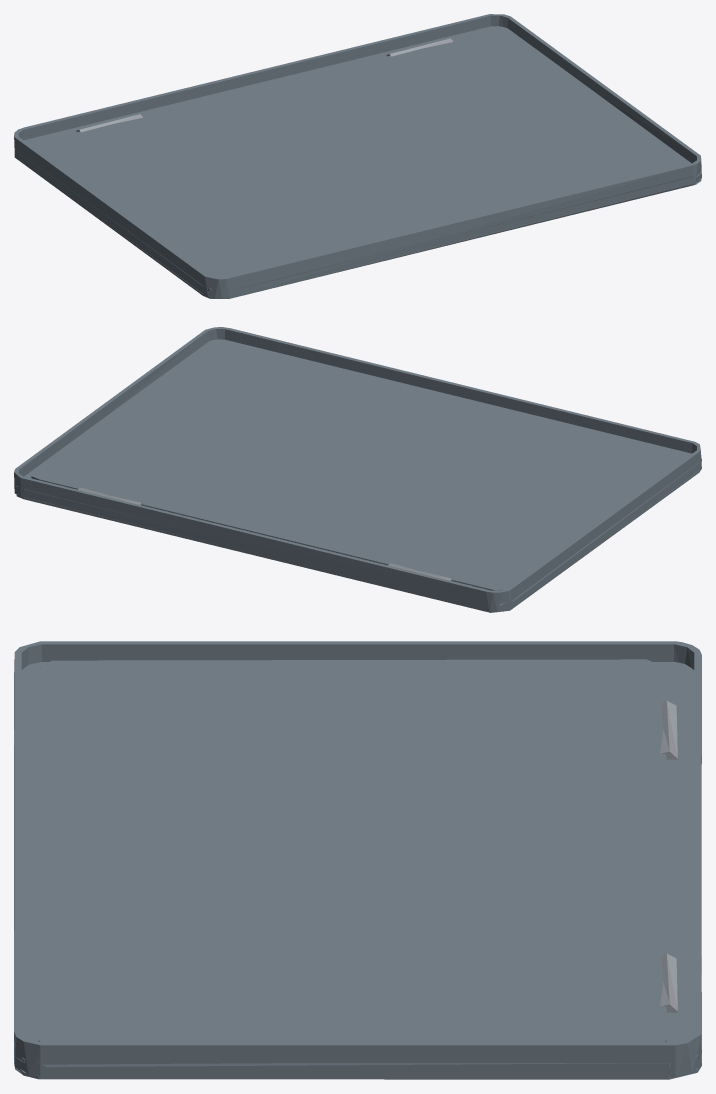
Rendered from notebook_demo.glb.
3 renders of one model, top to bottom at view 1: azimuth 30°, elevation 25°; view 2: azimuth 150°, elevation 25°; view 3: azimuth 270°, elevation 25°, orthographic. The views are drawn at different scales.
Visible parts, largest first — view 1: carcasa_pantalla@notebook, base@notebook_abierta, carcasa_superior@notebook; view 2: carcasa_pantalla@notebook, base@notebook_abierta, carcasa_superior@notebook; view 3: carcasa_pantalla@notebook, base@notebook_abierta, carcasa_superior@notebook.
Boxes of the visible parts, box(x1,y1,x2,y2) form: carcasa_pantalla@notebook: box(32, 29, 687, 277); base@notebook_abierta: box(14, 14, 701, 298); carcasa_superior@notebook: box(16, 26, 701, 291); carcasa_pantalla@notebook: box(31, 341, 686, 590); base@notebook_abierta: box(14, 327, 701, 612); carcasa_superior@notebook: box(16, 339, 701, 605); carcasa_pantalla@notebook: box(38, 659, 677, 1042); base@notebook_abierta: box(14, 641, 701, 1079); carcasa_superior@notebook: box(14, 662, 701, 1067).
Bounding box in the file's own units: 32 × 1.42 × 23.
